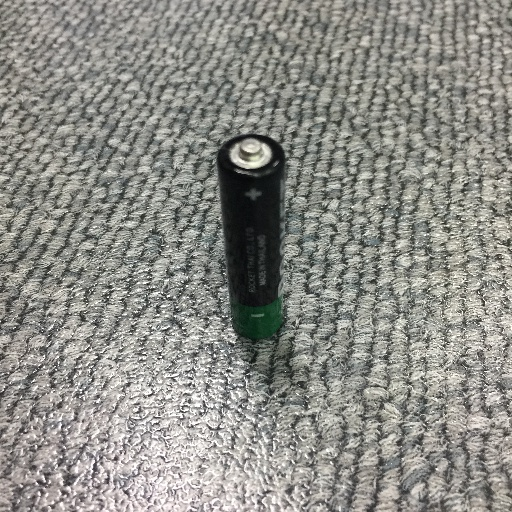Battery_0: (212, 125, 300, 350)
